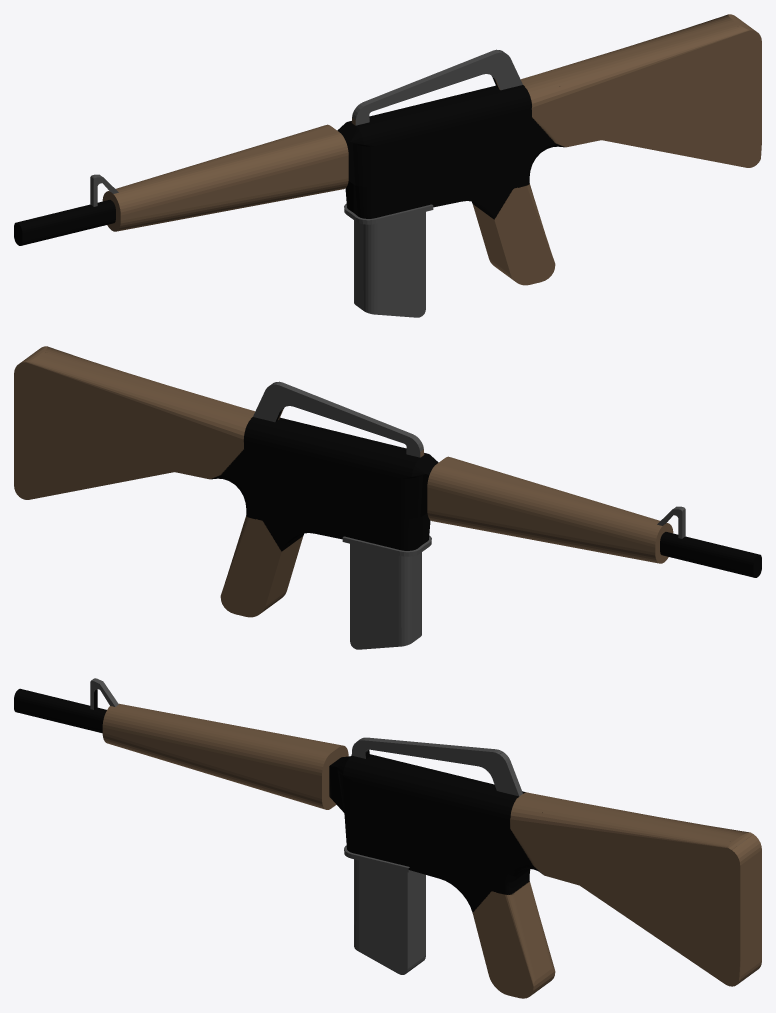
Rendered from gun.fbx.
The picture shows the model from 3 angles, top to bottom: view 1: azimuth 30°, elevation 25°; view 2: azimuth 150°, elevation 25°; view 3: azimuth 330°, elevation 25°; orthographic projection.
Visible parts, largest first — view 1: Cube; view 2: Cube; view 3: Cube.
Part boxes in pixels (x1=…): Cube: x1=14, y1=14, x2=761, y2=317; Cube: x1=14, y1=346, x2=761, y2=649; Cube: x1=14, y1=678, x2=761, y2=998.
Size of the model in its own units: 466 by 145 by 29.43.
